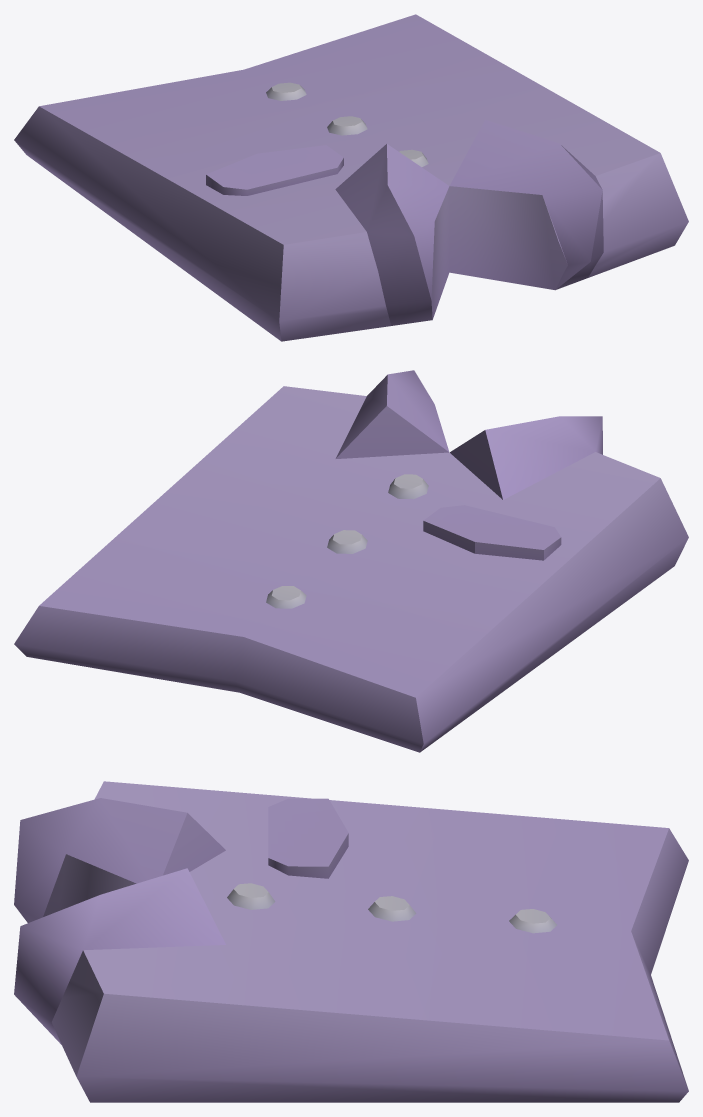
File: clothing-floor-folded-shirt.glb
3 renders of one model, top to bottom at view 1: azimuth 30°, elevation 25°; view 2: azimuth 150°, elevation 25°; view 3: azimuth 270°, elevation 25°, orthographic. The views are drawn at different scales.
Parts seen in each view (by area): view 1: clothing-floor-folded-shirt; view 2: clothing-floor-folded-shirt; view 3: clothing-floor-folded-shirt.
Boxes of the visible parts, x1=… form: clothing-floor-folded-shirt: x1=14, y1=14, x2=688, y2=341; clothing-floor-folded-shirt: x1=14, y1=370, x2=688, y2=752; clothing-floor-folded-shirt: x1=14, y1=781, x2=688, y2=1102.
Bounding box in the file's own units: 0.3658 × 0.1119 × 0.452.
